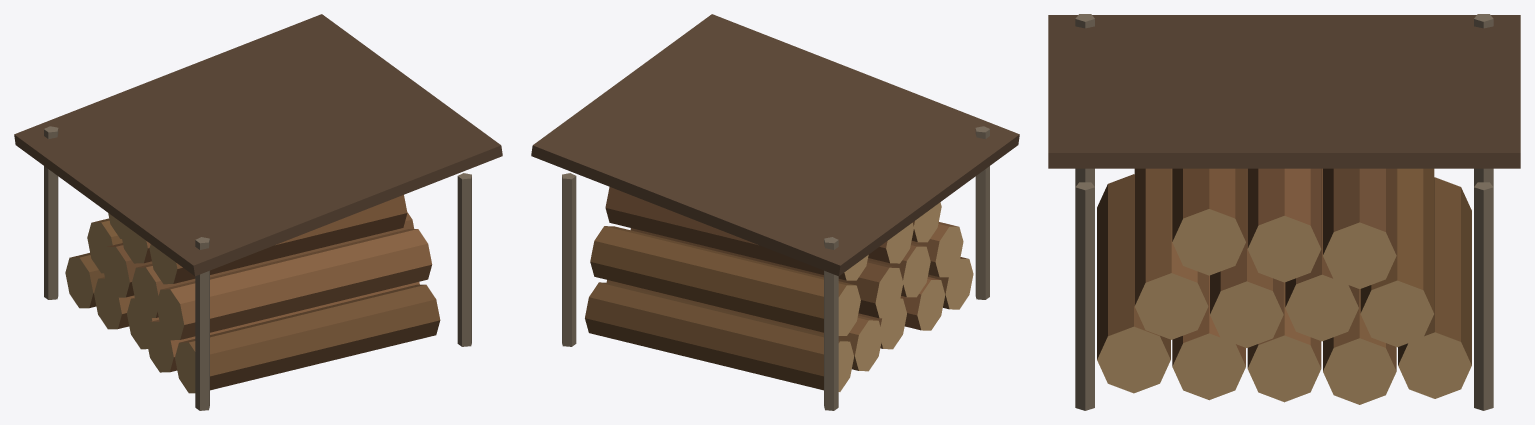
The model's file is Prop_Woodpile.glb.
3 views of the same model, side by side, from view 1: azimuth 30°, elevation 25°; view 2: azimuth 150°, elevation 25°; view 3: azimuth 270°, elevation 25° (orthographic). The views are drawn at different scales.
Parts seen in each view (by area): view 1: Mat_Wood_6d4e32, Mat_Wood_7e5939, Mat_Thatch_c4a070, Mat_Wood_816f5a; view 2: Mat_Wood_6d4e32, Mat_Wood_7e5939, Mat_Thatch_c4a070, Mat_Wood_816f5a; view 3: Mat_Wood_6d4e32, Mat_Thatch_c4a070, Mat_Wood_7e5939, Mat_Wood_816f5a.
Part boxes in pixels (left/top/right/bottom): Mat_Wood_6d4e32: left=14, top=14, right=502, bottom=390; Mat_Wood_7e5939: left=92, top=212, right=432, bottom=339; Mat_Thatch_c4a070: left=65, top=213, right=195, bottom=393; Mat_Wood_816f5a: left=44, top=126, right=471, bottom=410; Mat_Wood_6d4e32: left=531, top=14, right=1019, bottom=390; Mat_Wood_7e5939: left=590, top=222, right=957, bottom=370; Mat_Thatch_c4a070: left=838, top=202, right=973, bottom=391; Mat_Wood_816f5a: left=562, top=126, right=989, bottom=410; Mat_Wood_6d4e32: left=1048, top=15, right=1520, bottom=365; Mat_Thatch_c4a070: left=1097, top=209, right=1471, bottom=404; Mat_Wood_7e5939: left=1134, top=168, right=1434, bottom=370; Mat_Wood_816f5a: left=1075, top=14, right=1493, bottom=410.
Bounding box in the file's own units: 6.37 × 4 × 6.4.
1 material, 1 textured.
